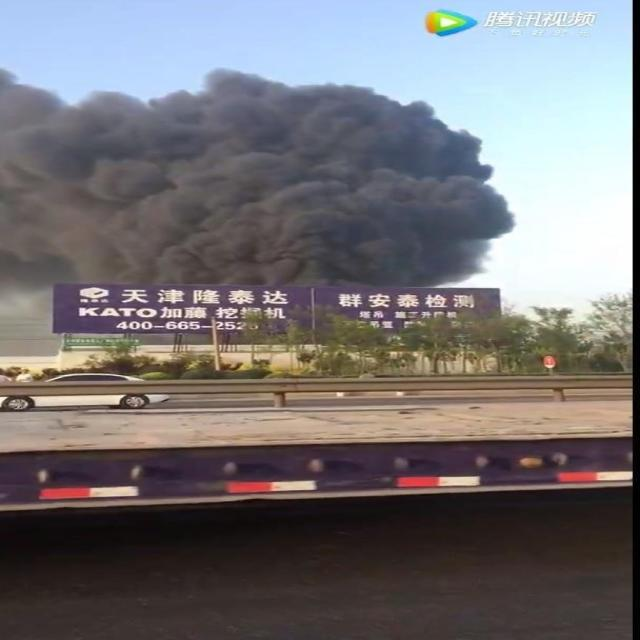Smoke: (1, 67, 516, 356)
